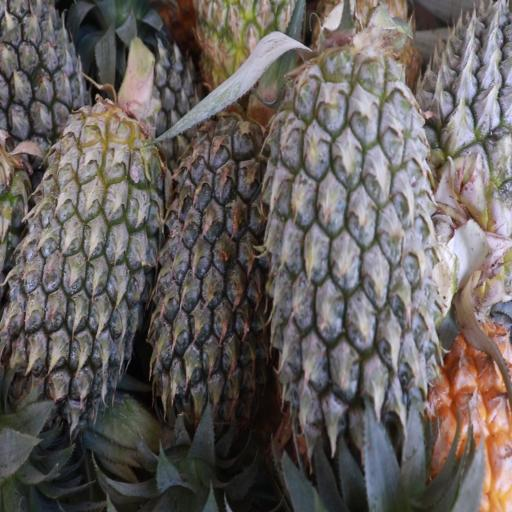------------------------------: (194, 0, 296, 97)
